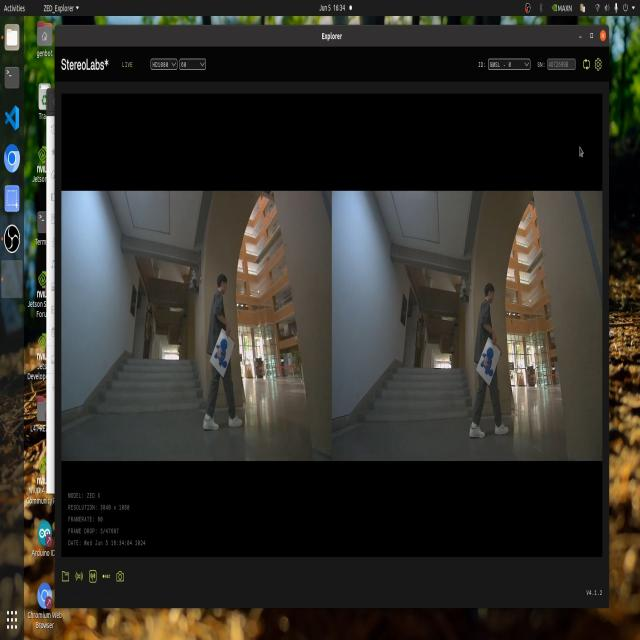blue: (213, 335, 234, 374), (476, 347, 498, 381)
